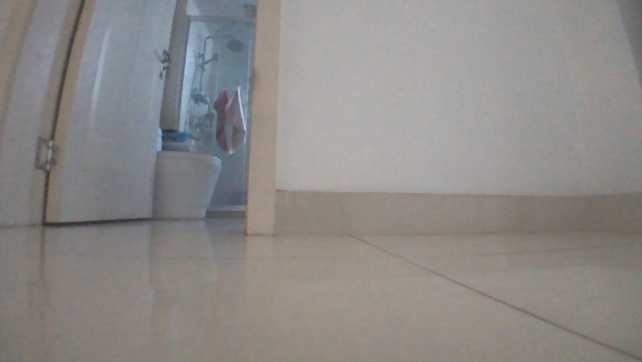door_anno: (0, 0, 179, 229)
toilet: (155, 144, 223, 224)
